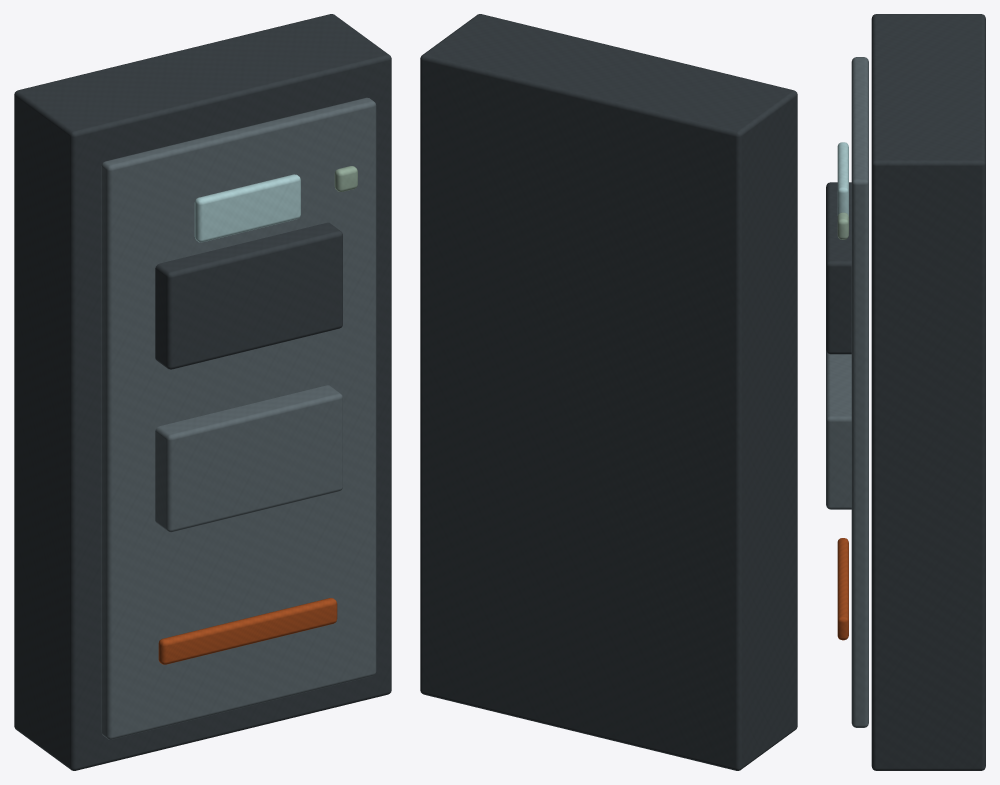
Rendered from WallSpecimenDispenser.fbx.
3 renders of one model, left to right at view 1: azimuth 30°, elevation 25°; view 2: azimuth 150°, elevation 25°; view 3: azimuth 270°, elevation 25°, orthographic. The views are drawn at different scales.
Parts seen in each view (by area): view 1: WallSpecimenDispenser_Mesh; view 2: WallSpecimenDispenser_Mesh; view 3: WallSpecimenDispenser_Mesh.
Boxes of the visible parts, bbox=[...] form: WallSpecimenDispenser_Mesh: bbox=[14, 14, 391, 770]; WallSpecimenDispenser_Mesh: bbox=[420, 14, 797, 770]; WallSpecimenDispenser_Mesh: bbox=[826, 14, 985, 770].
Size of the model in its own units: 62 by 118 by 28.
